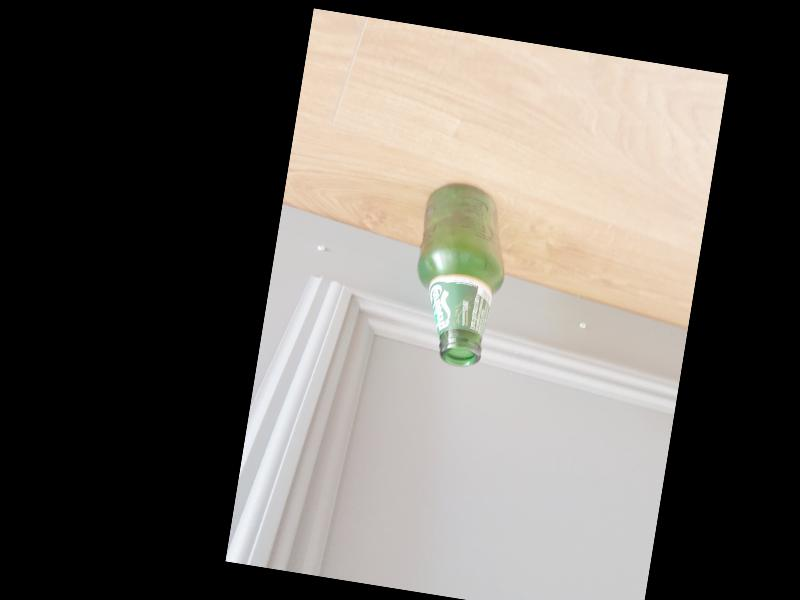Beer: (401, 177, 518, 370)
